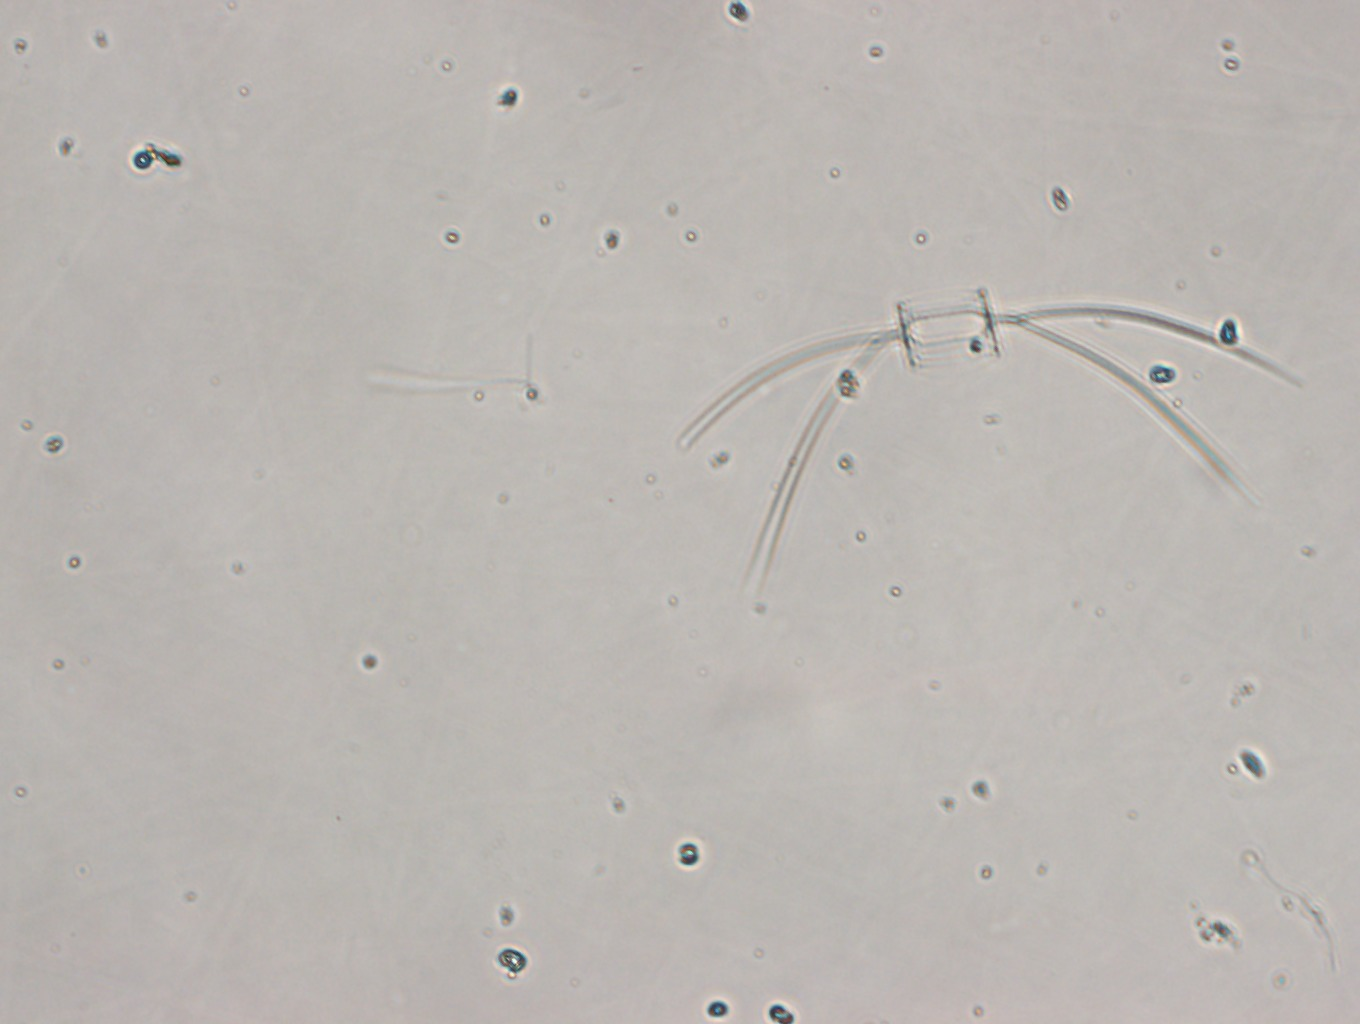chaetoceros: (672, 286, 1306, 615)
